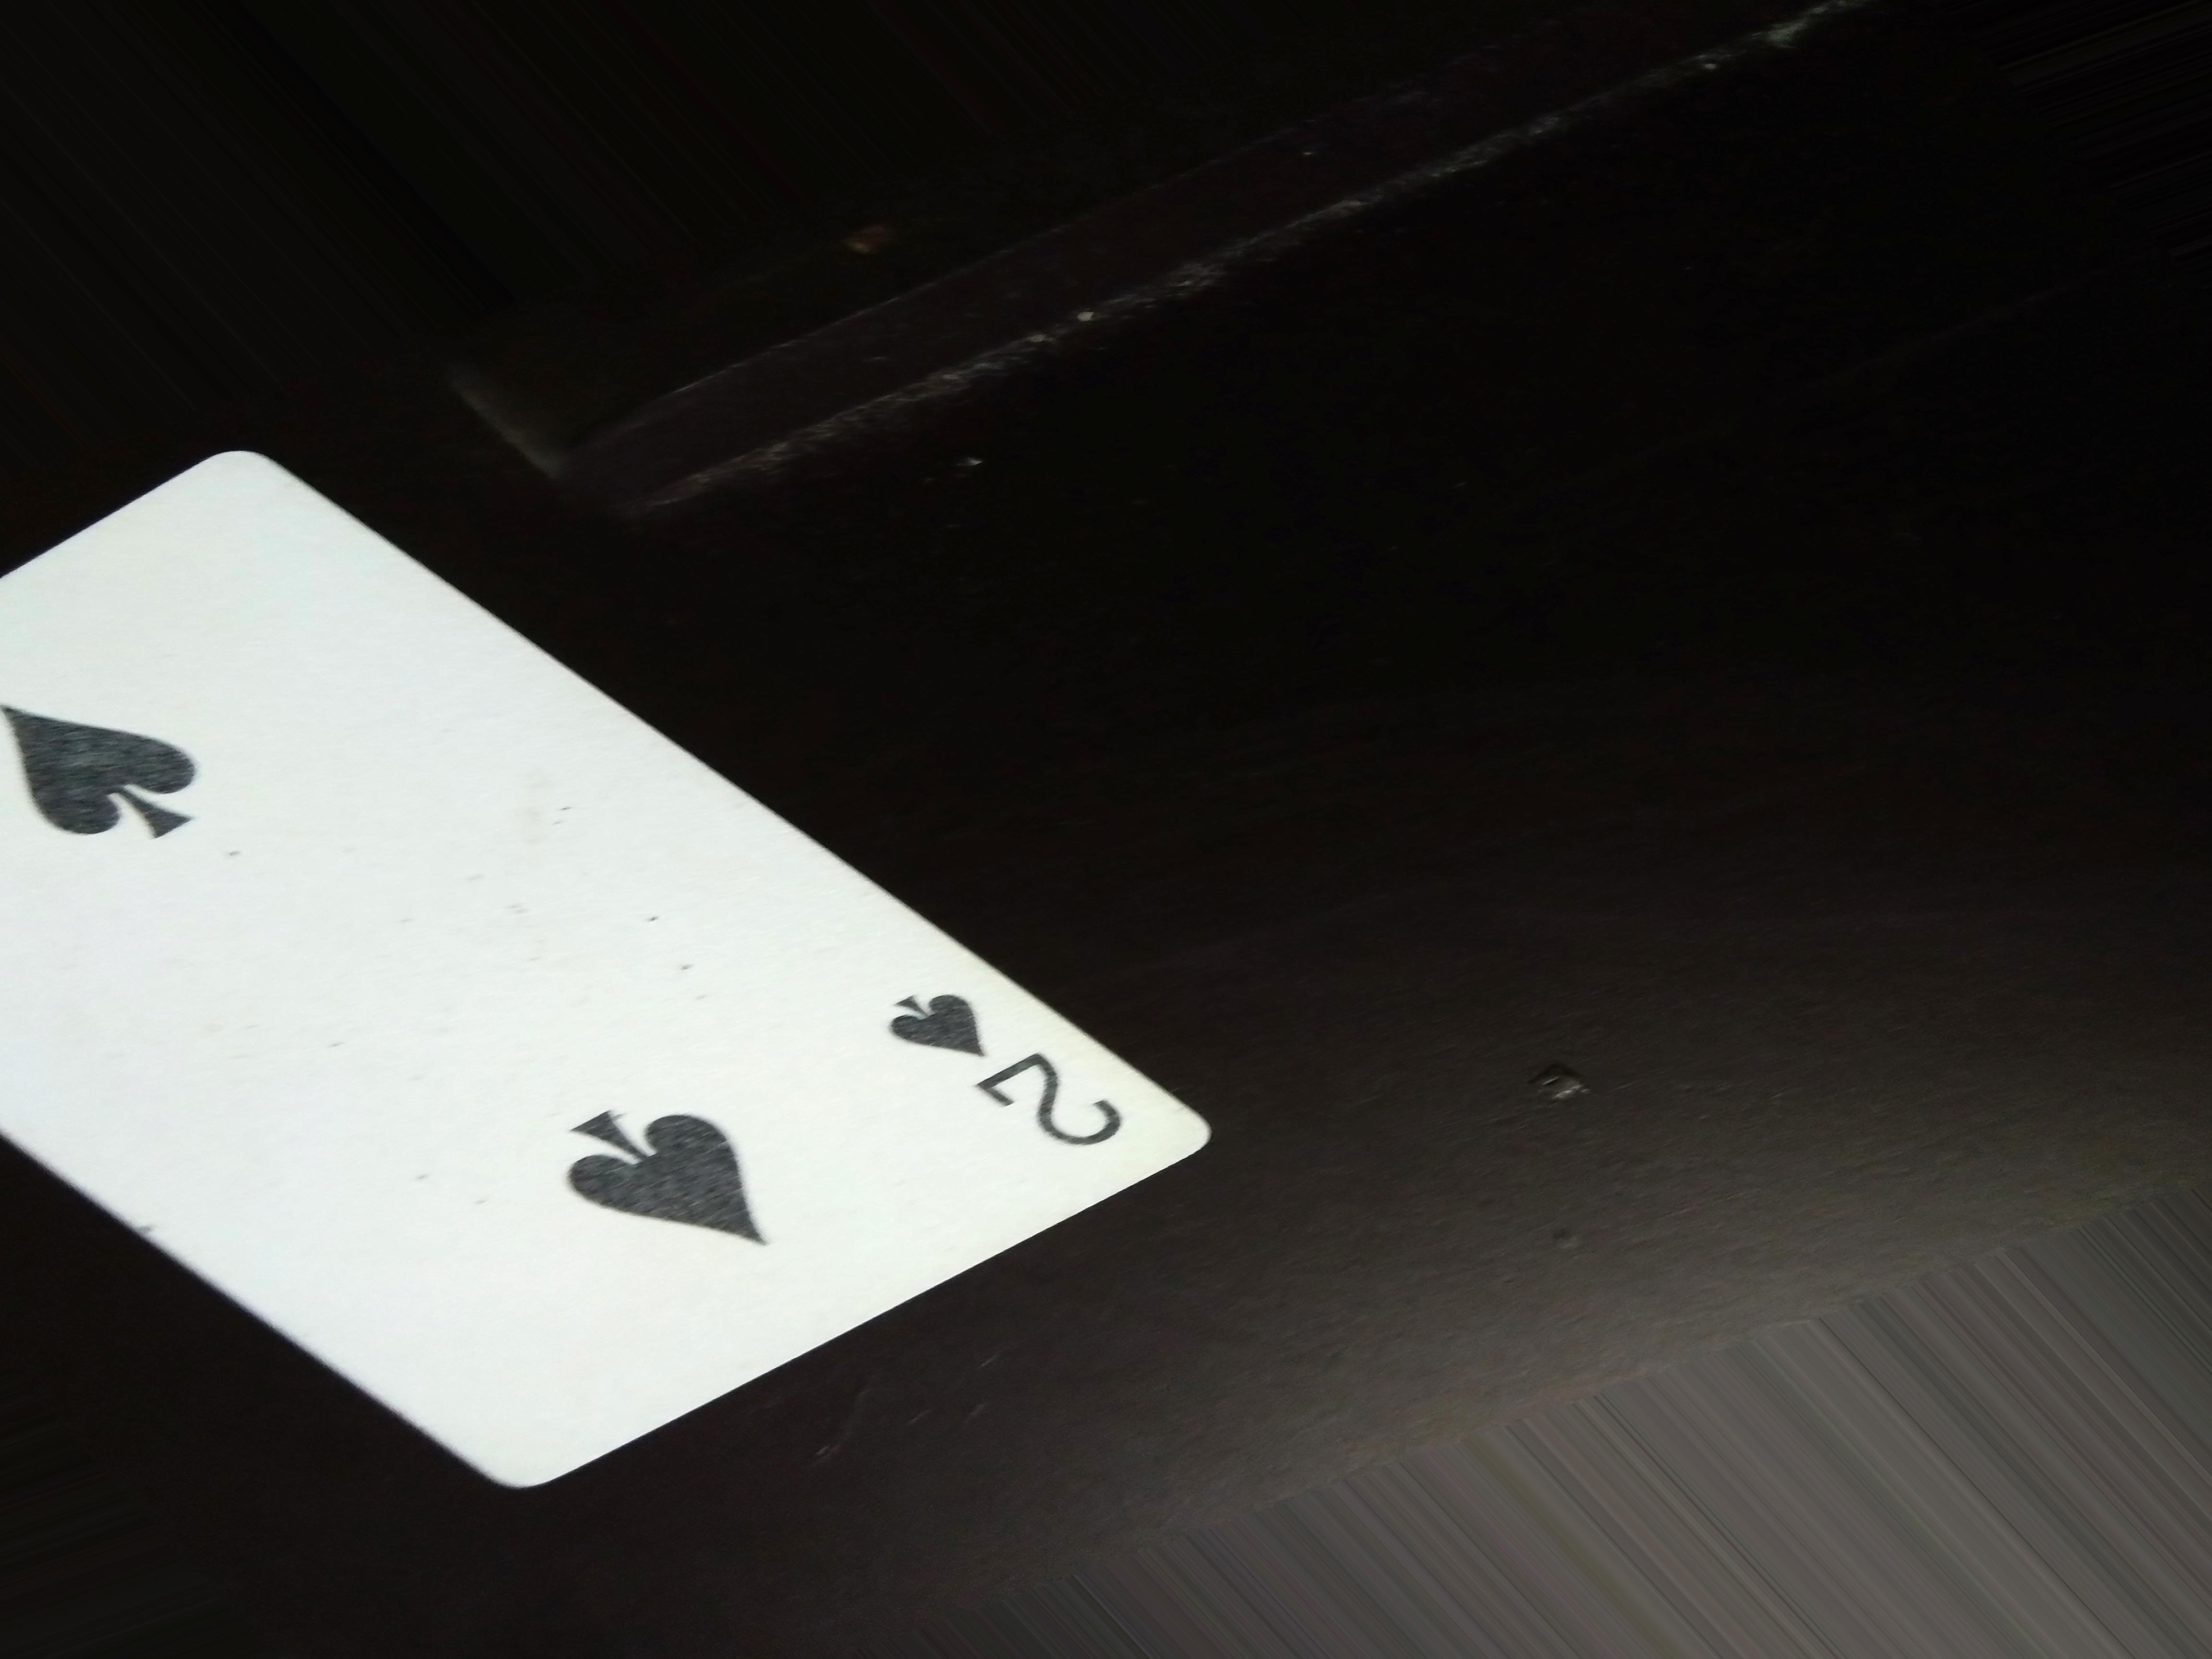2S: (874, 983, 1163, 1187)
